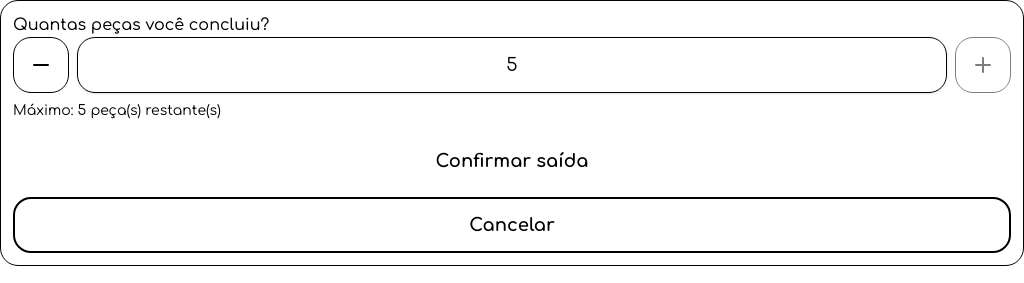
it: KioskExitSubtaskForm › uses stepper buttons to adjust completed qty
Click the button named "Diminuir quantidade". click: (41, 65)
box: x1=13 y1=37 x2=69 y2=93
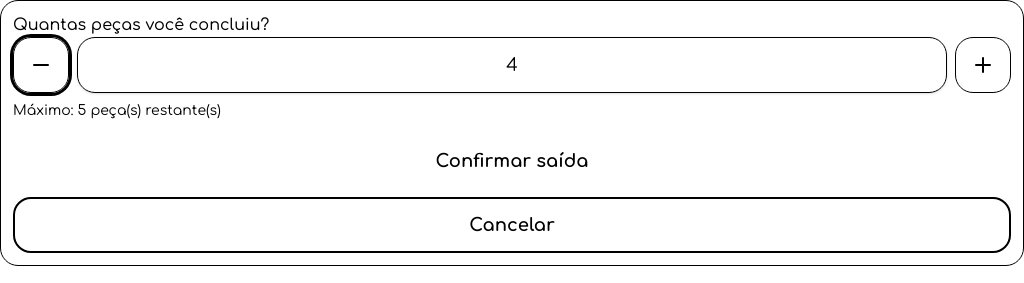
Expected: the number field labelled "Quantas peças você concluiu?" holds "4", x1=77 y1=37 x2=947 y2=93
Click the button named "Aumentar quantidade". click: (983, 65)
box: x1=955 y1=37 x2=1011 y2=93
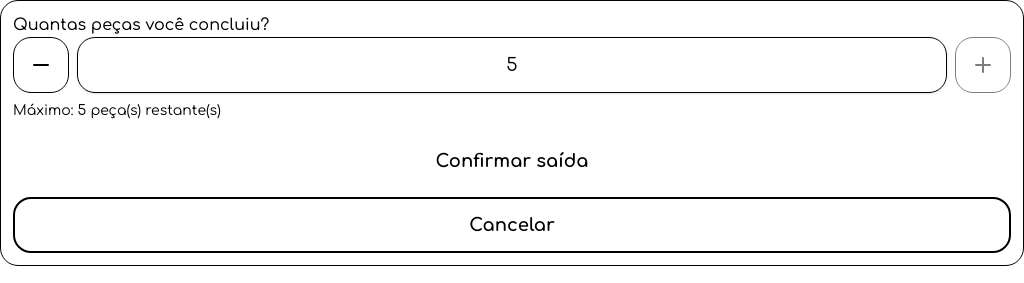
Expected: the number field labelled "Quantas peças você concluiu?" holds "5", x1=77 y1=37 x2=947 y2=93
